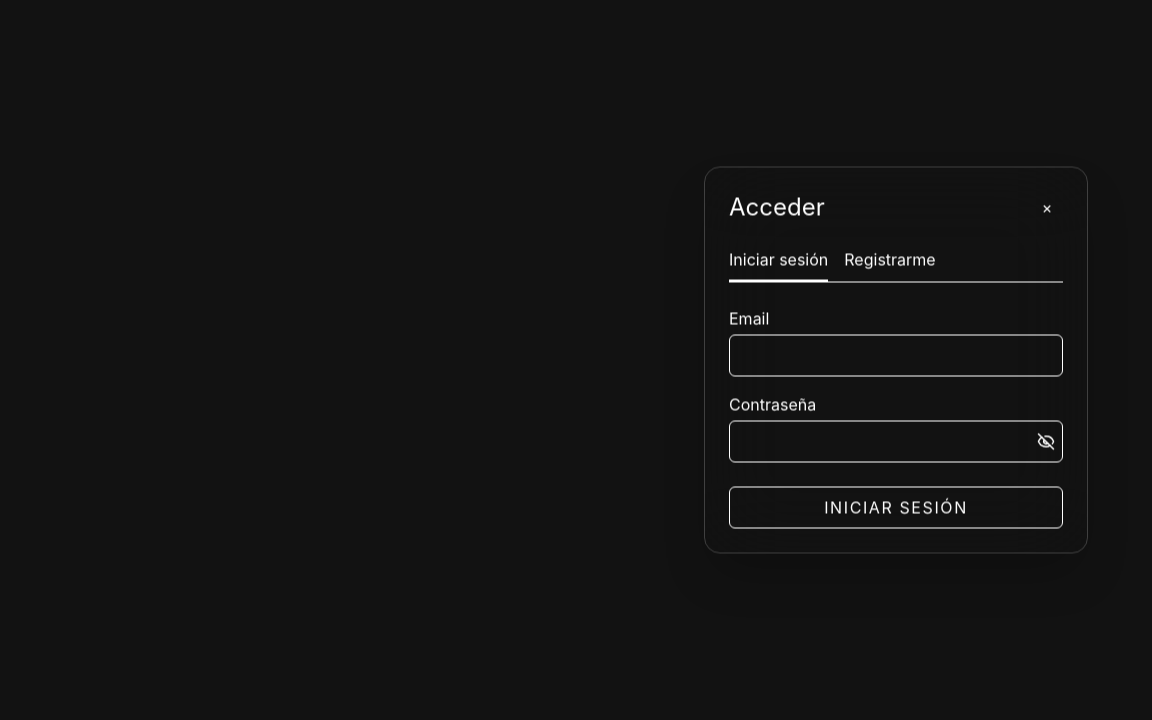
Test case: AccessPanel › switches between the login and register tabs
Step 1. Click the tab with class "access-panel__tab" showing "Registrarme" → (890, 264), box [844, 248, 936, 282]
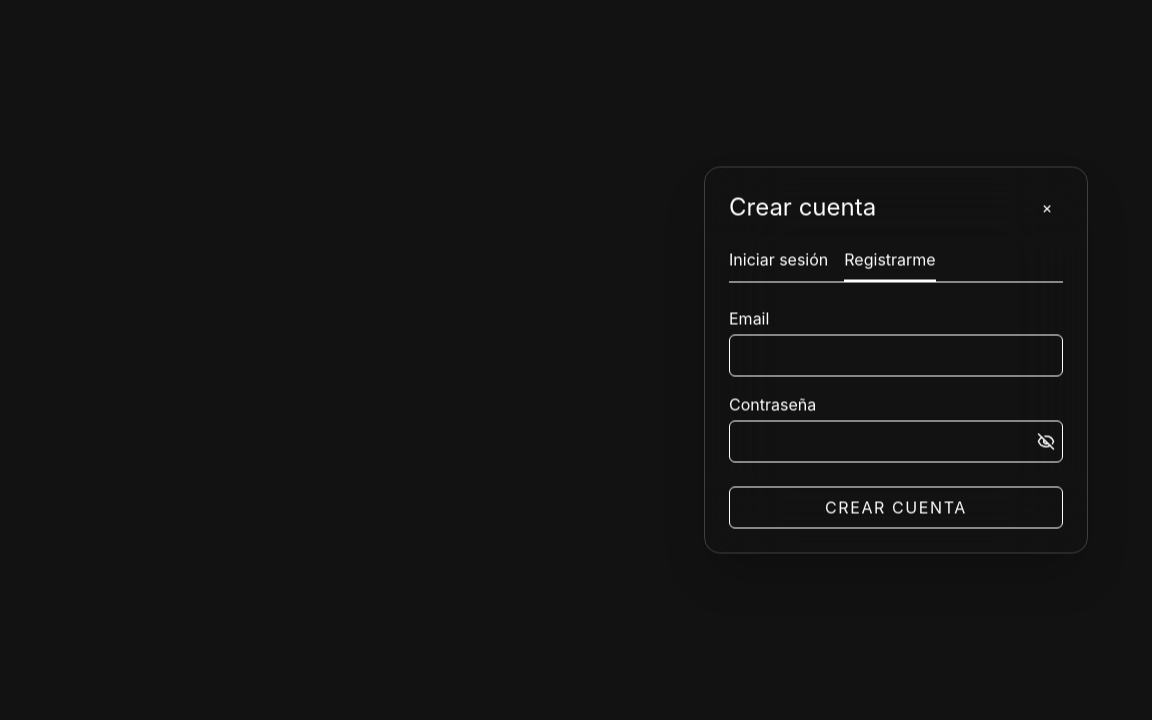
Result: the form is shown at [729, 306, 1063, 528]
Step 2. Click the tab with class "access-panel__tab" showing "Iniciar sesión" → (779, 264), box [729, 248, 828, 282]
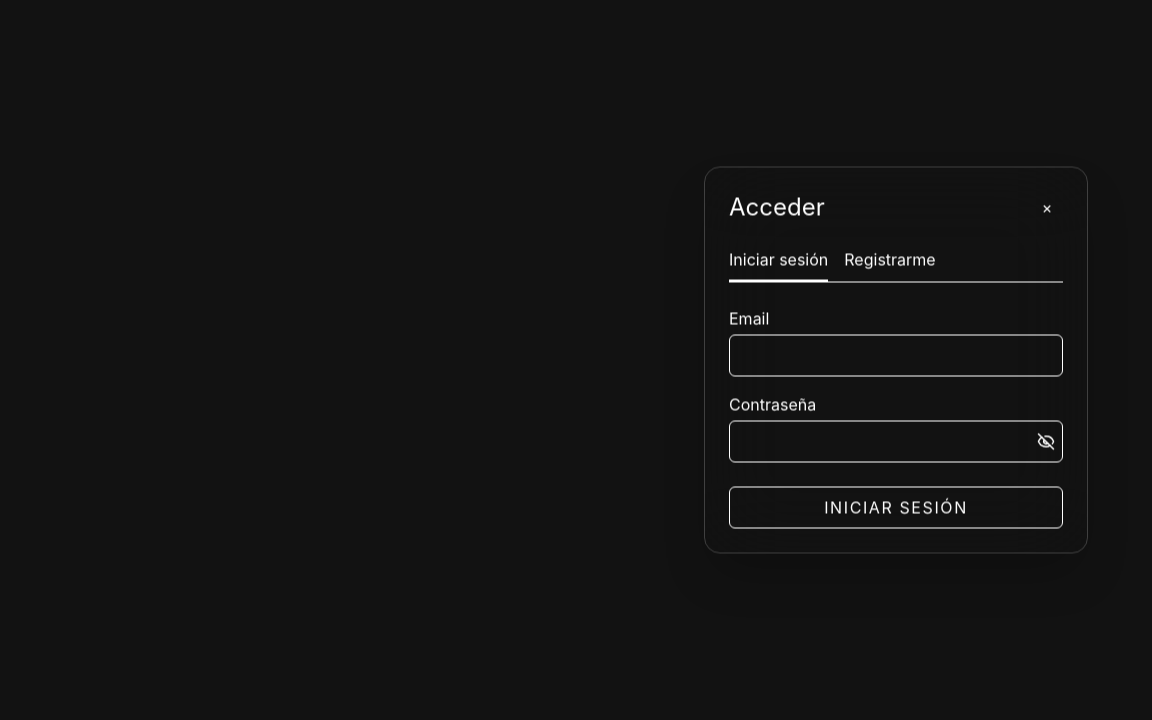
Result: the form is shown at [729, 306, 1063, 528]
